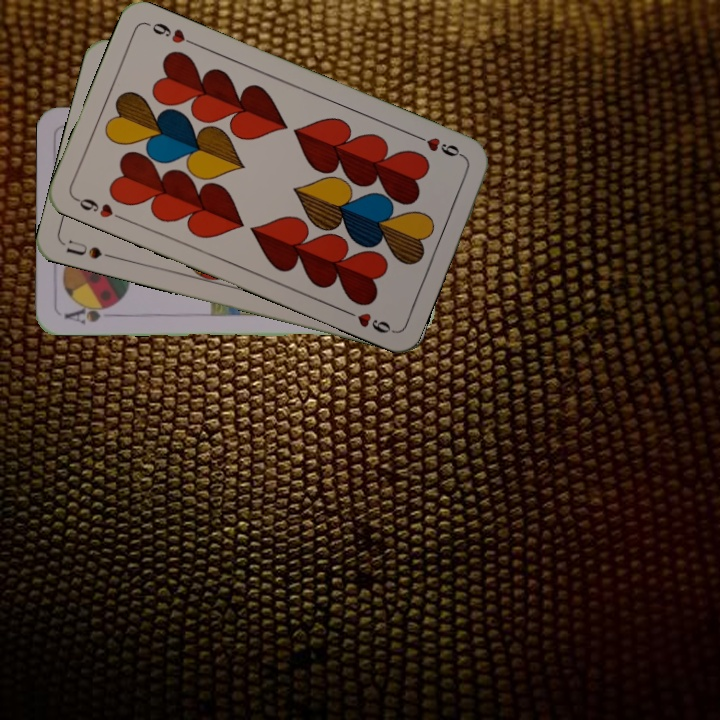H9: (411, 130, 468, 161), (71, 193, 127, 223)
SA: (61, 300, 119, 327)
SU: (60, 235, 118, 262)
